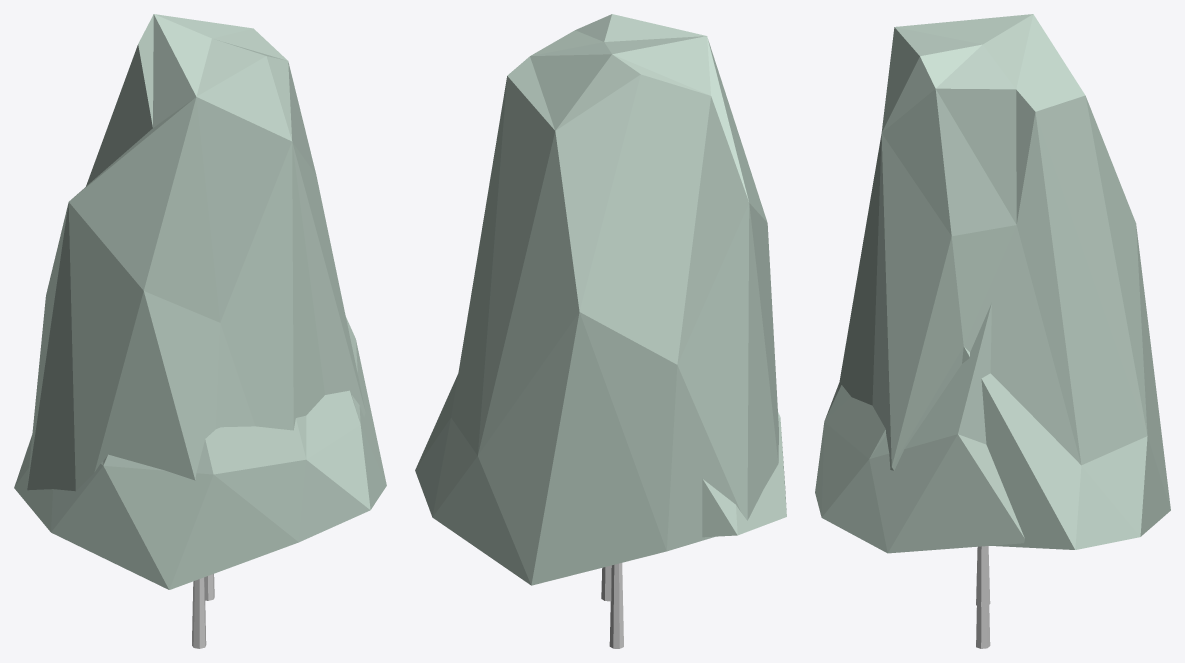
File: Props_3.fbx
3 renders of one model, left to right at view 1: azimuth 30°, elevation 25°; view 2: azimuth 150°, elevation 25°; view 3: azimuth 270°, elevation 25°, orthographic.
Parts seen in each view (by area): view 1: Rock_3.002, Rock_2.001, Tree.003; view 2: Rock_3.002, Rock_2.001, Tree.003; view 3: Rock_3.002, Rock_2.001, Tree.002, Tree.003.
Boxes of the visible parts, x1,y1,x2,y2 form: Rock_3.002: (27,14,365,491); Rock_2.001: (14,317,386,589); Tree.003: (192,577,206,648); Rock_3.002: (415,14,778,585); Rock_2.001: (702,412,786,537); Tree.003: (609,563,623,648); Rock_3.002: (838,14,1170,549); Rock_2.001: (815,302,1024,553); Tree.002: (976,546,990,606); Tree.003: (976,605,990,648).
Bounding box in the file's own units: 1243 × 2320 × 1203.
